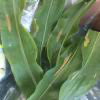Corn leaf blight: (1, 1, 41, 99), (43, 2, 95, 73), (35, 36, 83, 99), (59, 28, 99, 99), (30, 0, 64, 70)
